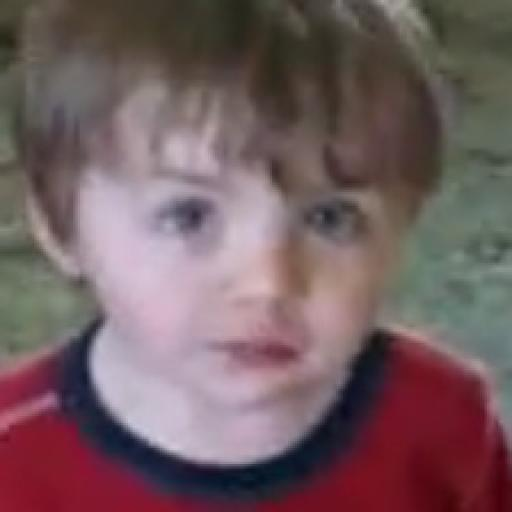Autism: (5, 14, 433, 401)
